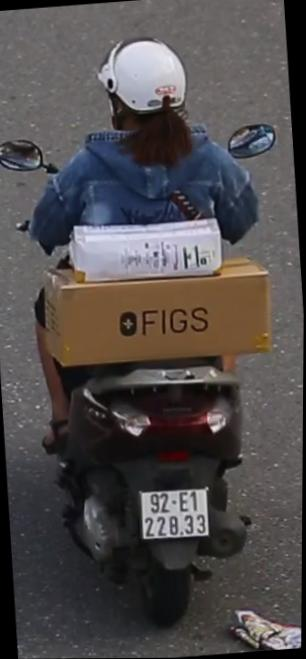LP: (136, 480, 215, 546)
helmet: (94, 27, 197, 148)
